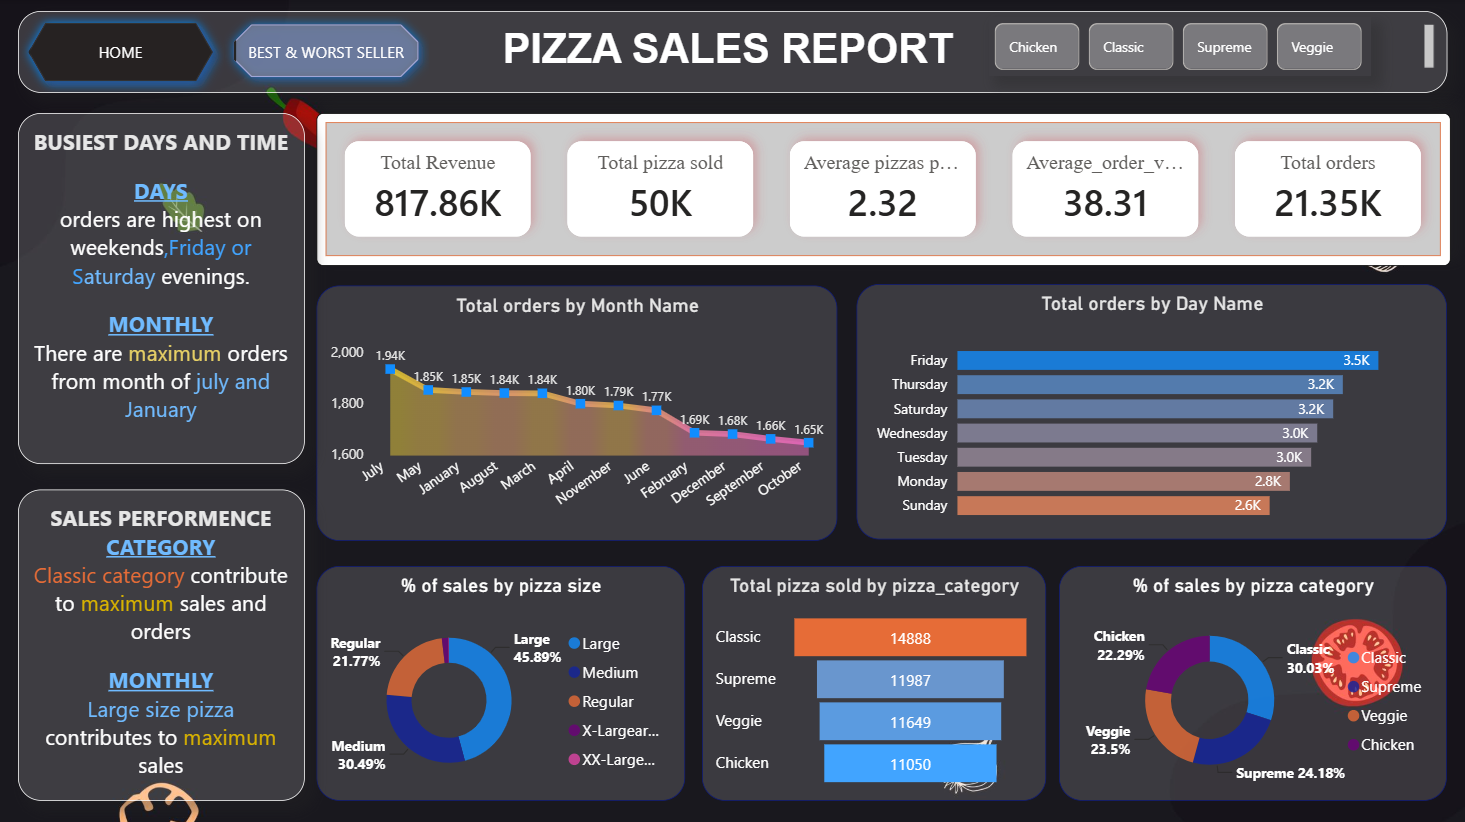

This screenshot's page, from the dashboard's own definition file:
{"tool":"powerbi","page":{"name":"HOME","canvas":[1280,720],"ordinal":0},"visuals":[{"type":"cardVisual","fields":{"Data":["pizza_sales.Total Revenue","pizza_sales.Total pizza sold","pizza_sales.Average pizzas per order","pizza_sales.Average_order_value","pizza_sales.Total orders"]},"box":[275.6,99.9,988.8,133.3],"z":0},{"type":"barChart","fields":{"Category":["pizza_sales.Day Name"],"Y":["pizza_sales.Total orders"]},"box":[746.5,248.3,514.8,222.6],"z":1000},{"type":"stackedAreaChart","fields":{"Category":["pizza_sales.Month Name"],"Y":["pizza_sales.Total orders"]},"box":[275.6,249.8,454.3,222.6],"z":2000},{"type":"funnel","fields":{"Category":["pizza_sales.pizza_category"],"Y":["pizza_sales.Total pizza sold"]},"box":[611.7,493.6,299.8,204.4],"z":3000},{"type":"donutChart","title":"% of sales by pizza size","fields":{"Y":["pizza_sales.Total Revenue"],"Series":["pizza_sales.pizza_size"]},"box":[275.6,493.6,321,204.4],"z":4000},{"type":"textbox","box":[15.1,10.6,1246.2,71.2],"z":5000},{"type":"advancedSlicerVisual","fields":{"Values":["pizza_sales.pizza_category"]},"box":[861.6,15.1,333.1,51.5],"z":6000},{"type":"textbox","box":[15.1,99.9,249.8,305.9],"z":7000},{"type":"textbox","box":[15.1,427,249.8,271],"z":8000},{"type":"donutChart","title":"% of sales by pizza category","fields":{"Y":["pizza_sales.Total pizza sold"],"Category":["pizza_sales.pizza_category"]},"box":[923.7,493.6,337.7,204.4],"z":9000},{"type":"pageNavigator","box":[15.1,11.3,179.5,69.9],"z":10000},{"type":"pageNavigator","box":[194.6,13.2,179.5,64.3],"z":11000}]}

Visuals, with their boxes in screenshot pixels (x1, y1, x2, y2), scaled from the page's 1280x720 canvas onto the 1465x822 screenshot:
cardVisual - pizza_sales.Total Revenue x pizza_sales.Total pizza sold: 315, 114, 1447, 266
barChart - pizza_sales.Day Name x pizza_sales.Total orders: 854, 283, 1444, 538
stackedAreaChart - pizza_sales.Month Name x pizza_sales.Total orders: 315, 285, 835, 539
funnel - pizza_sales.pizza_category x pizza_sales.Total pizza sold: 700, 564, 1043, 797
"% of sales by pizza size" donutChart: 315, 564, 683, 797
textbox: 17, 12, 1444, 93
advancedSlicerVisual - pizza_sales.pizza_category: 986, 17, 1367, 76
textbox: 17, 114, 303, 463
textbox: 17, 487, 303, 797
"% of sales by pizza category" donutChart: 1057, 564, 1444, 797
pageNavigator: 17, 13, 223, 93
pageNavigator: 223, 15, 428, 88
